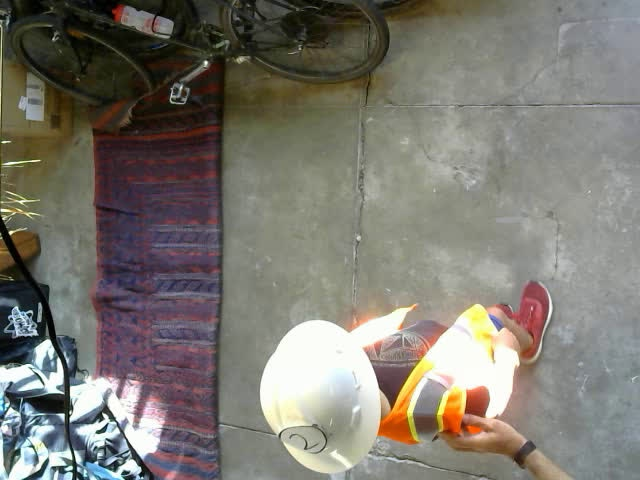two: (277, 424, 326, 454)
